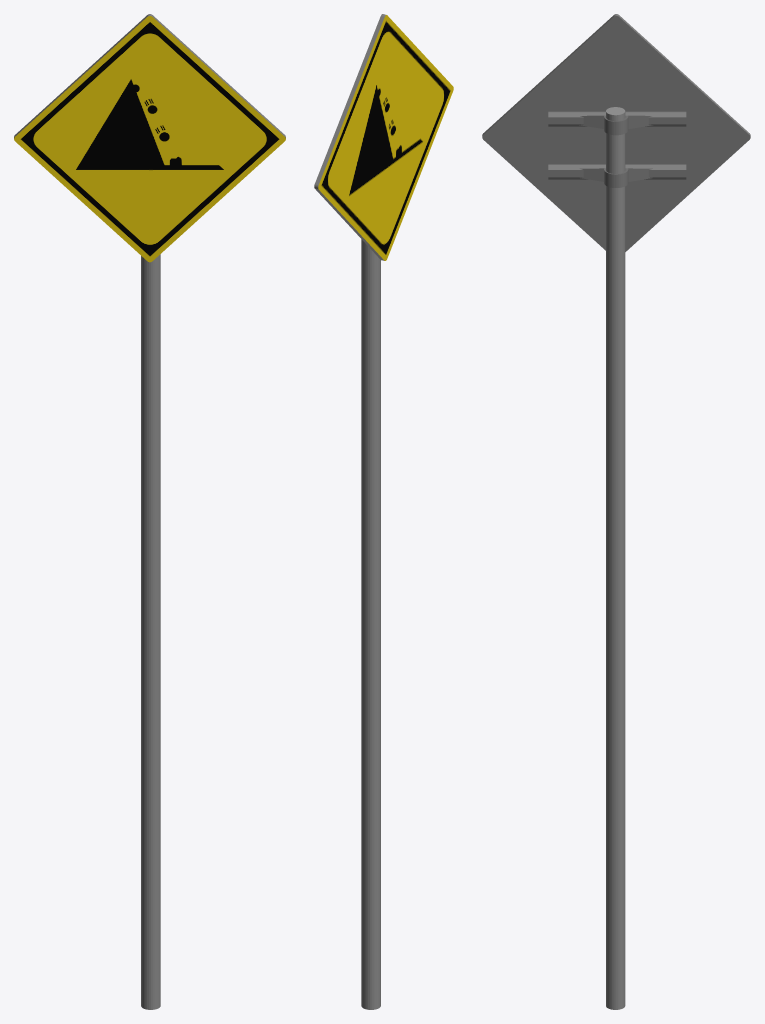
The picture shows the model from 3 angles, left to right: view 1: azimuth 90°, elevation 25°; view 2: azimuth 150°, elevation 25°; view 3: azimuth 270°, elevation 25°; orthographic projection.
Parts seen in each view (by area): view 1: 012, Prop; view 2: 012, Prop; view 3: 012, Prop.
Part boxes in pixels (x1=…): 012: x1=14, y1=14, x2=285, y2=262; Prop: x1=141, y1=254, x2=160, y2=1009; 012: x1=314, y1=14, x2=453, y2=260; Prop: x1=361, y1=239, x2=380, y2=1009; 012: x1=482, y1=14, x2=750, y2=251; Prop: x1=548, y1=107, x2=686, y2=1009.
Size of the model in its own units: 6.76 by 259 by 63.95.
